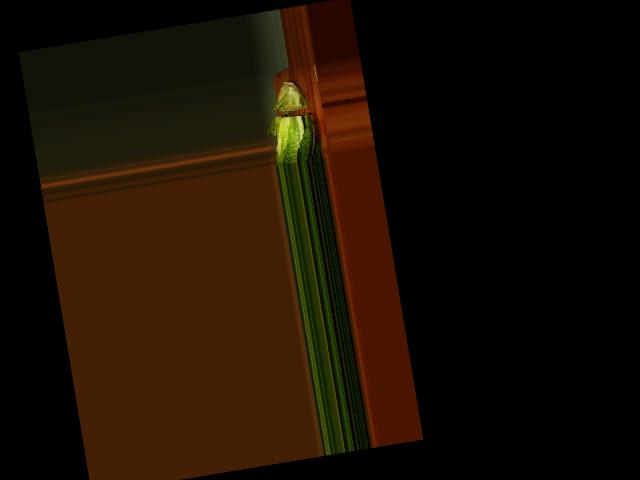lettuce: (261, 78, 325, 165)
